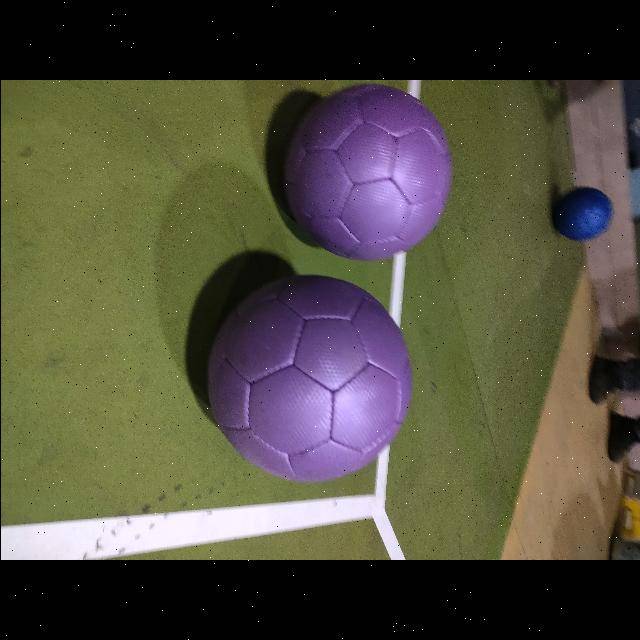B: (558, 188, 616, 240)
P: (207, 276, 411, 482), (284, 84, 451, 260)
